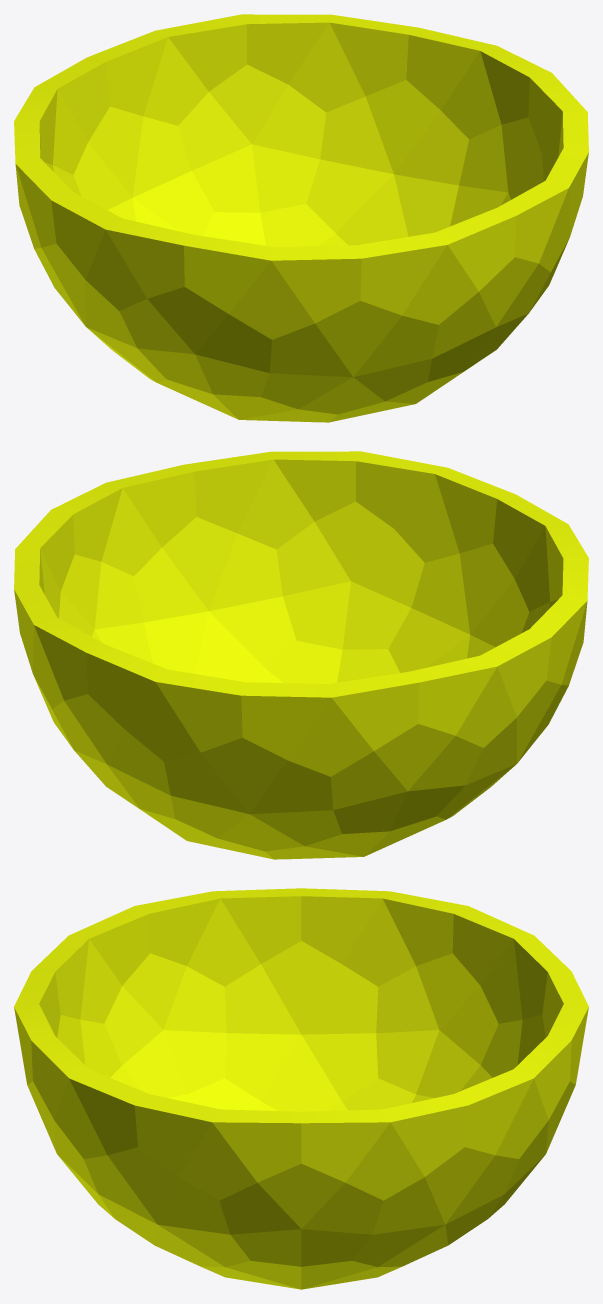
Rendered from Vase1.FBX.
3 renders of one model, top to bottom at view 1: azimuth 30°, elevation 25°; view 2: azimuth 150°, elevation 25°; view 3: azimuth 270°, elevation 25°, orthographic.
Visible parts, largest first — view 1: GeoSphere001; view 2: GeoSphere001; view 3: GeoSphere001.
Part boxes in pixels (<box>): GeoSphere001: <box>14,14,588,422</box>; GeoSphere001: <box>14,451,588,859</box>; GeoSphere001: <box>14,888,588,1289</box>.
Bounding box in the file's own units: 0.6379 × 0.3249 × 0.6456.
